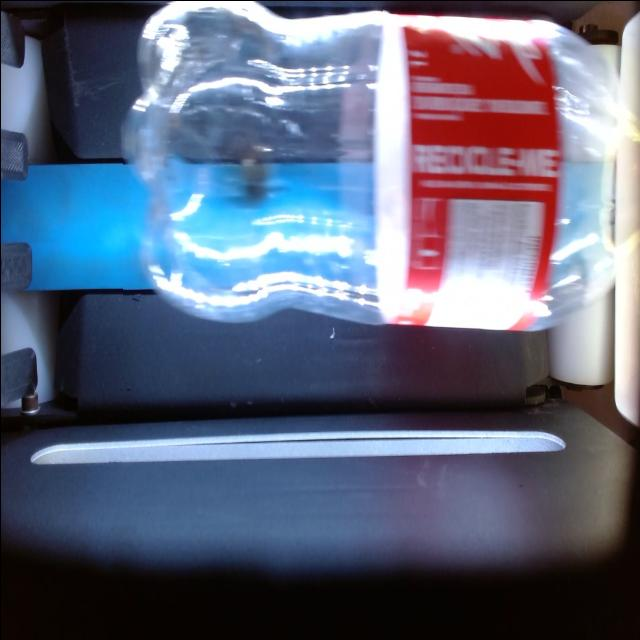bottom: (122, 3, 382, 322)
label: (374, 16, 560, 329)
neck: (531, 13, 640, 330)
